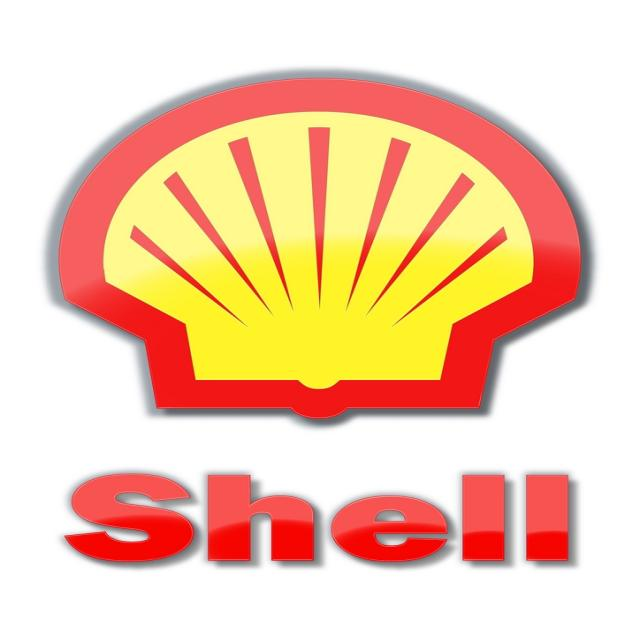shell: (54, 73, 585, 421)
